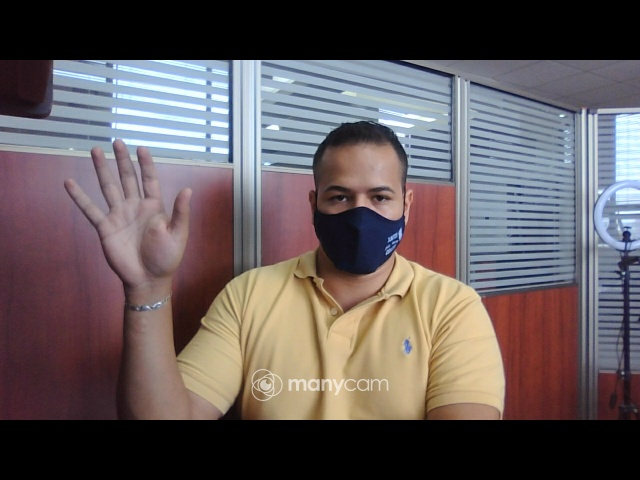Hello: (62, 138, 195, 296)
